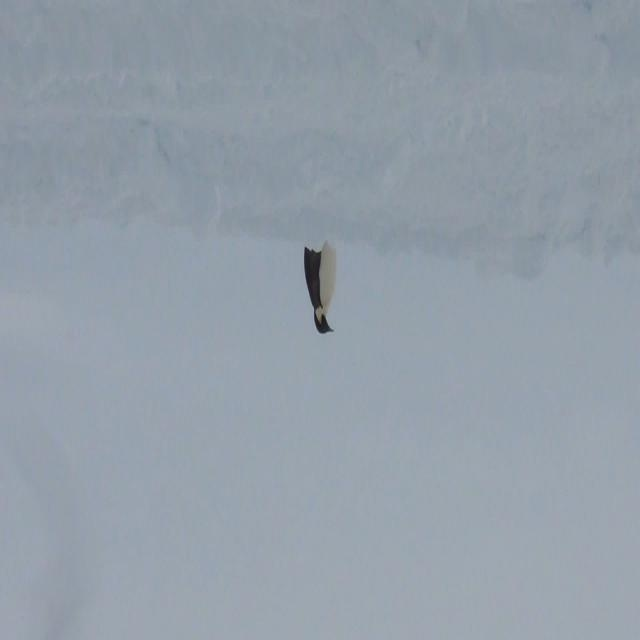penguin: (305, 240, 336, 335)
